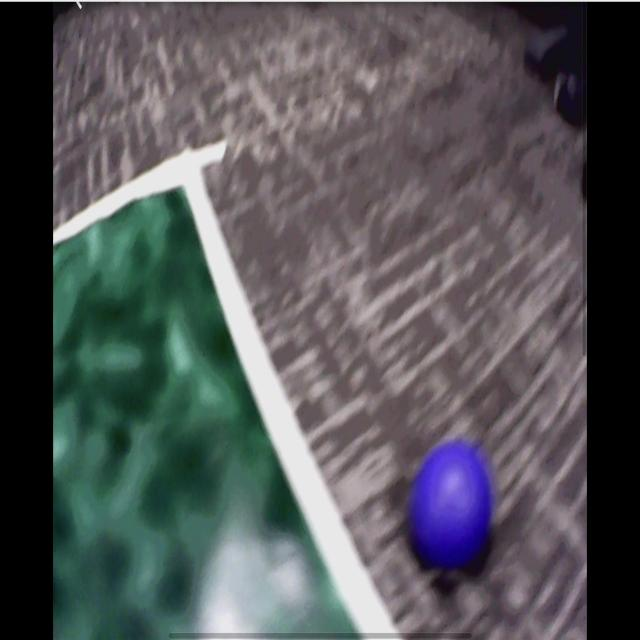ball: (411, 444, 494, 570)
